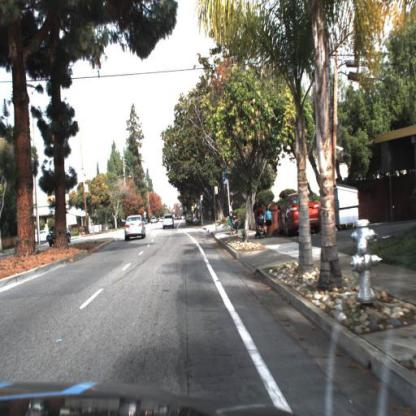car: (276, 171, 326, 237), (275, 192, 322, 238), (45, 221, 73, 250), (123, 213, 147, 241), (29, 224, 52, 244), (34, 229, 55, 248), (162, 215, 176, 232)
pedestrian: (252, 193, 270, 244), (264, 195, 276, 239), (227, 207, 241, 243), (253, 196, 264, 238), (264, 200, 275, 240), (229, 211, 237, 237), (226, 196, 236, 216)
